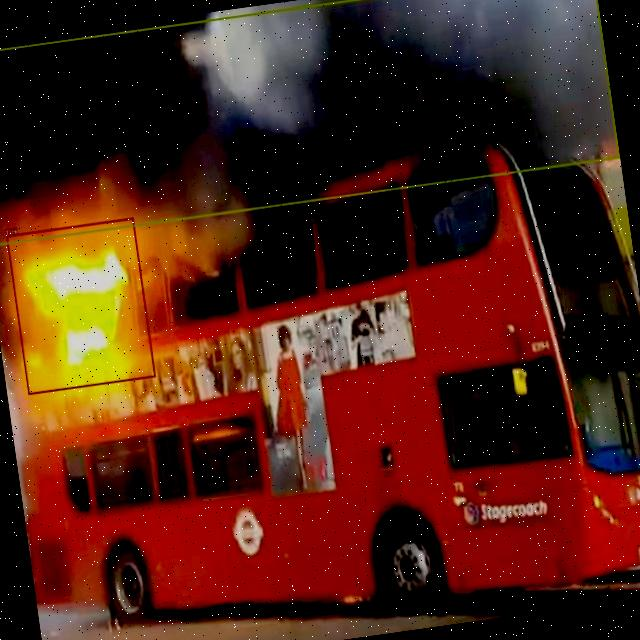fire: (6, 217, 156, 394)
smoke: (0, 0, 620, 246)
